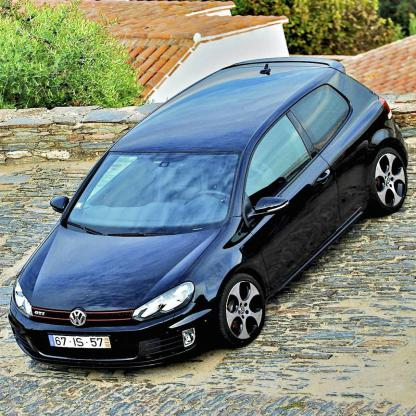Car: (8, 57, 409, 369)
